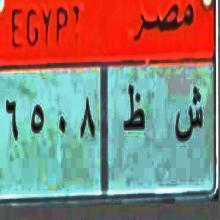0: (53, 106, 71, 142)
5: (29, 92, 48, 151)
6: (2, 94, 21, 150)
8: (78, 94, 99, 150)
Thaa: (125, 79, 146, 139)
sheen: (171, 81, 204, 150)
